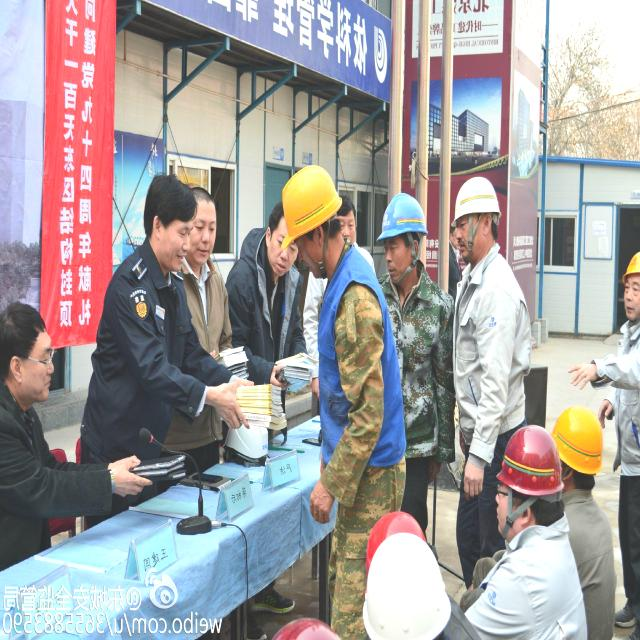face_nomask: (14, 344, 55, 406), (187, 208, 224, 272), (381, 232, 422, 280), (454, 214, 489, 262), (160, 217, 192, 268), (263, 225, 301, 267), (303, 228, 335, 276), (620, 276, 640, 322)
hand_noglove: (199, 369, 252, 440), (99, 449, 148, 505), (457, 451, 491, 503), (563, 352, 602, 396), (307, 471, 338, 525), (594, 390, 620, 432)
head_helmet: (368, 533, 456, 640), (276, 156, 350, 241), (499, 418, 559, 502), (373, 183, 437, 248), (560, 398, 605, 478), (445, 174, 504, 229), (371, 504, 425, 544), (266, 616, 346, 640)
head_nohelmet: (0, 299, 50, 339), (142, 178, 195, 208), (187, 178, 221, 205)
person: (77, 188, 192, 514), (300, 155, 380, 601), (440, 165, 528, 524), (369, 198, 440, 451), (477, 433, 568, 629), (220, 203, 302, 376), (0, 299, 64, 514), (558, 401, 616, 613), (176, 189, 226, 419), (618, 245, 640, 586)
